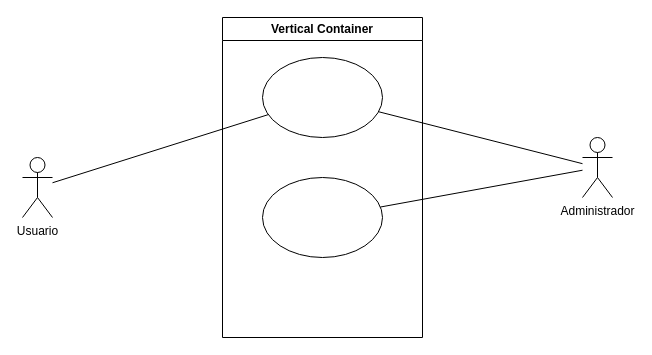
The diagram is 652 pixels wide and 355 high, and some of its shapes have lost their labels. Here are the shapes that lost their labels. From the top down, the centre of each, then its label:
At pixel 322 97: "Gestión de Usuario".
At pixel 322 217: "Gestión de Pasaporte".
